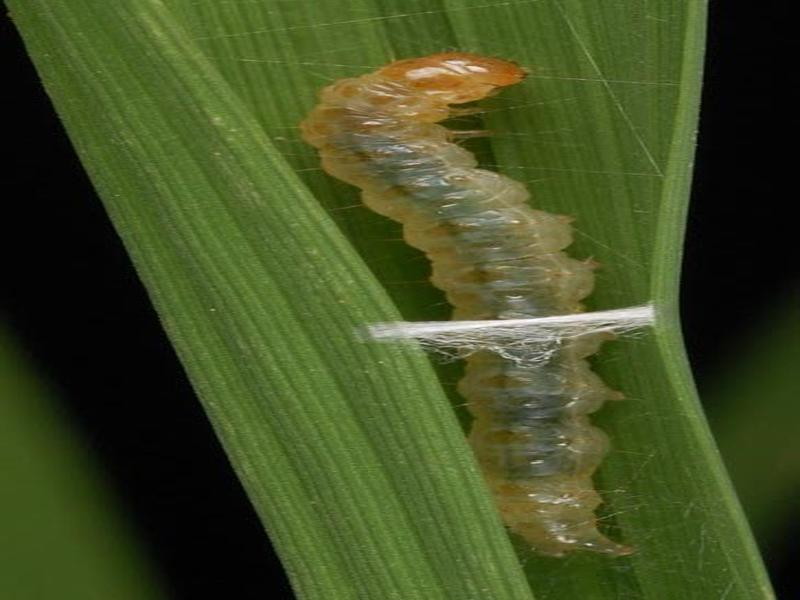Leaf_folder: (295, 53, 649, 559)
